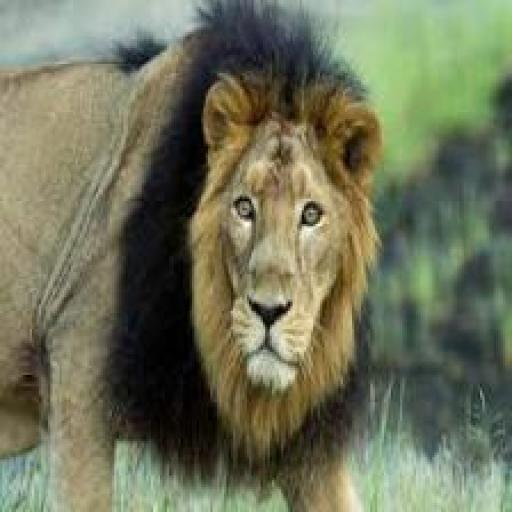lion: (0, 50, 385, 489)
